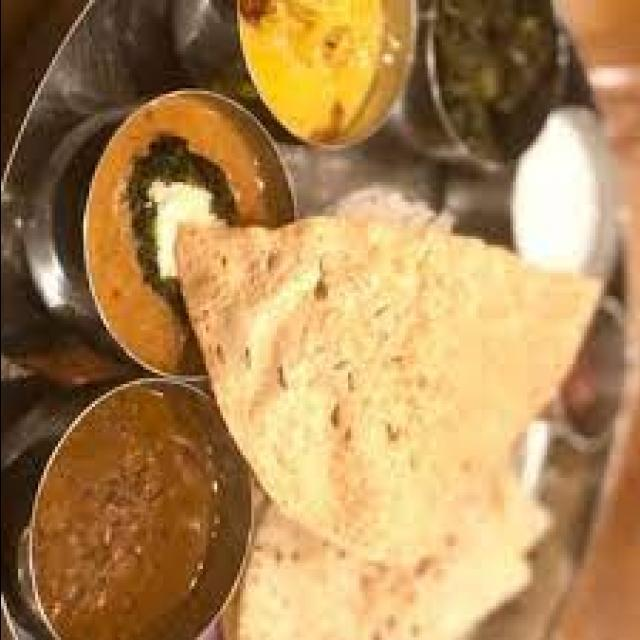dal: (249, 8, 387, 138)
